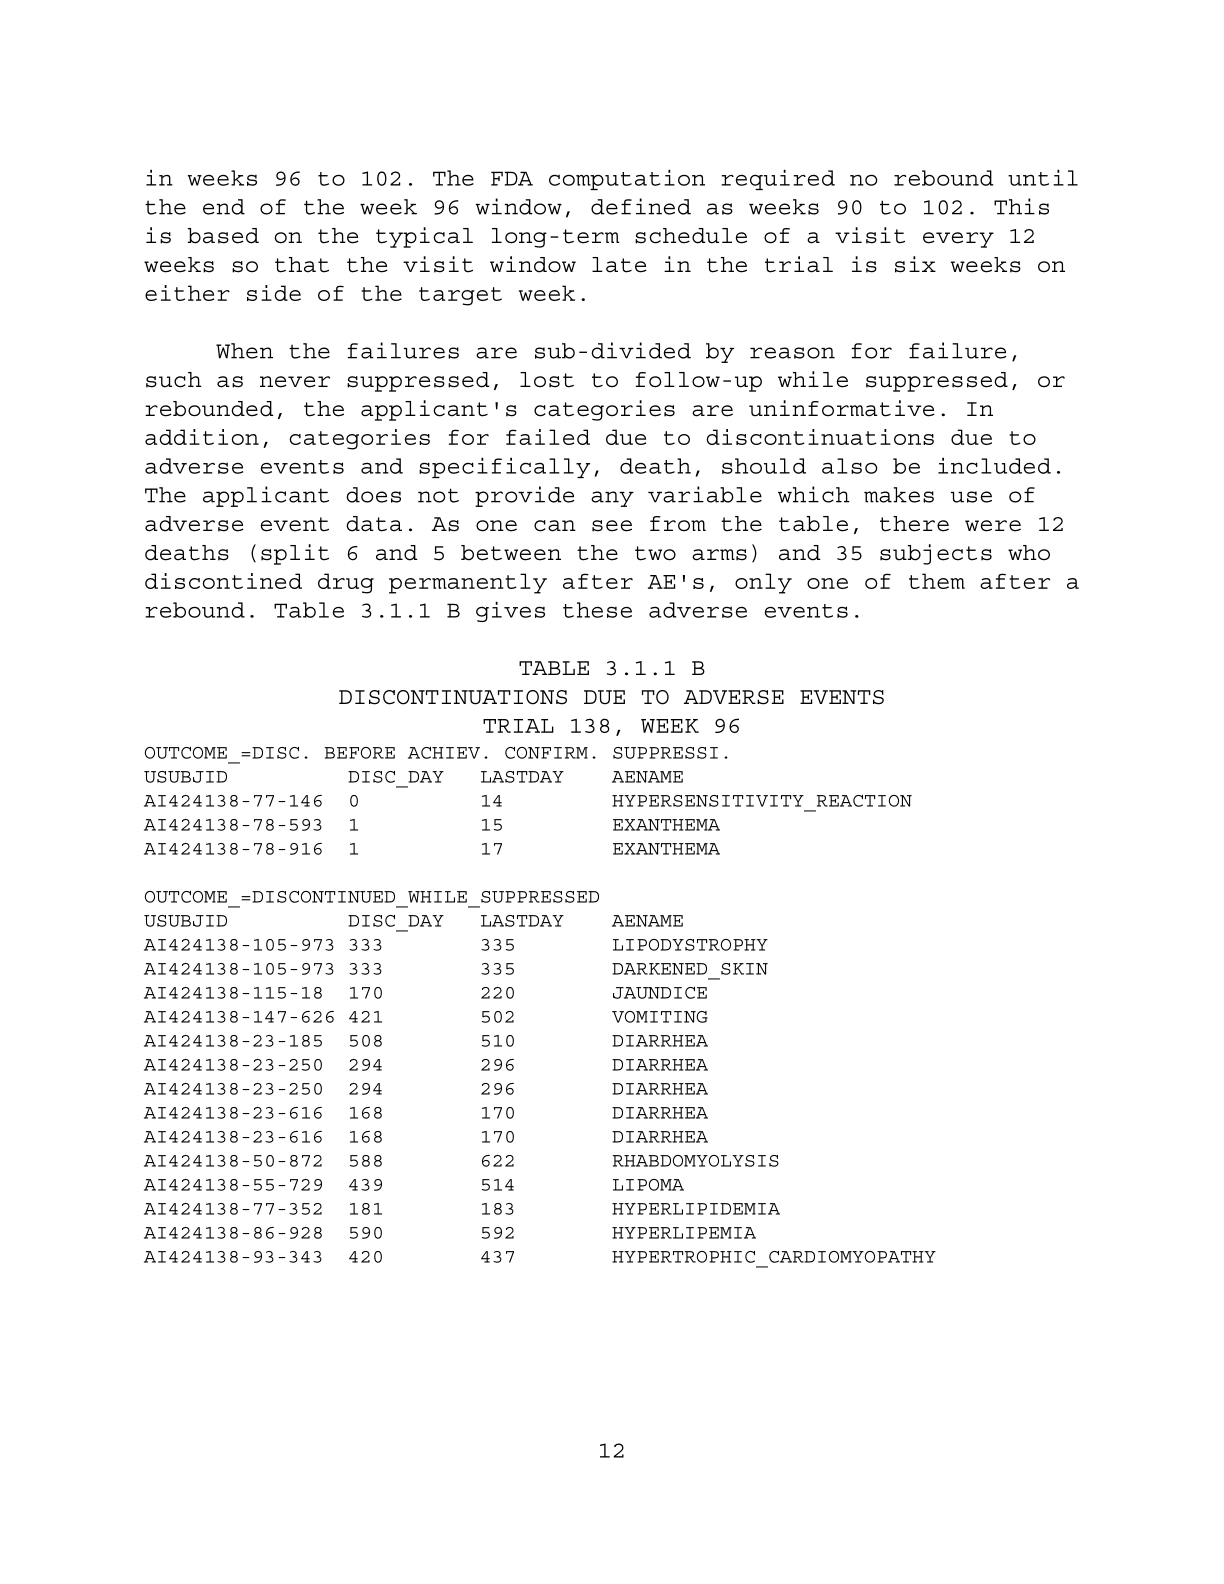nolines: (138, 913, 942, 1266), (141, 742, 915, 859)
